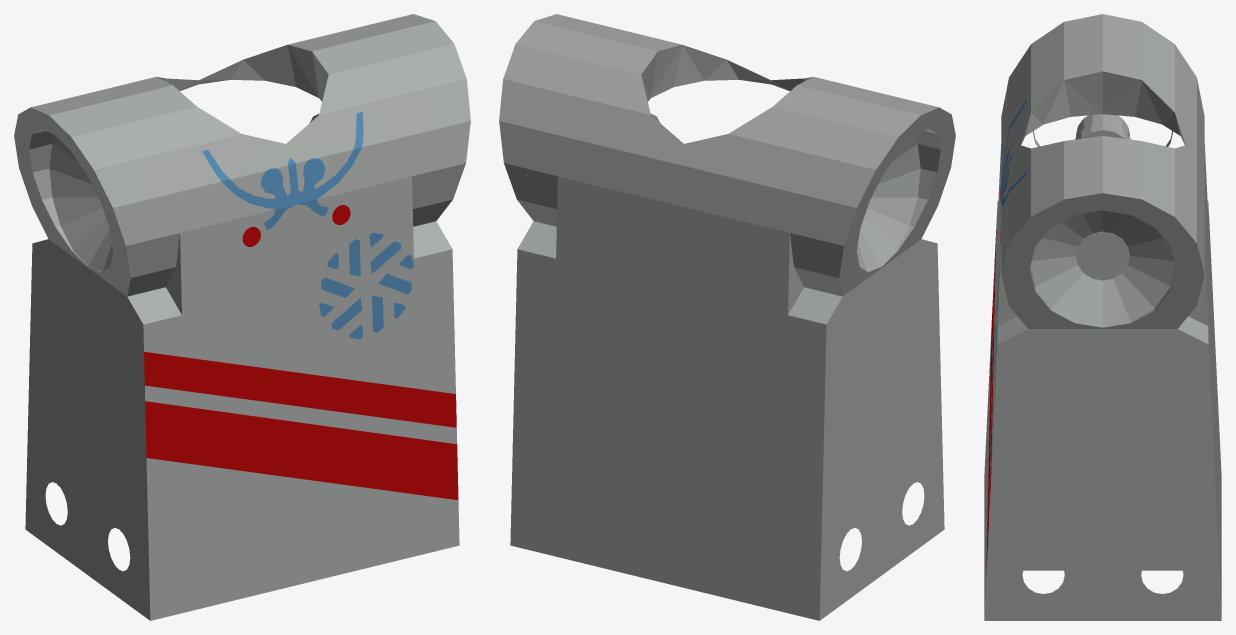
3 views of the same model, side by side, from view 1: azimuth 30°, elevation 25°; view 2: azimuth 150°, elevation 25°; view 3: azimuth 270°, elevation 25° (orthographic). The views are drawn at different scales.
Visible parts, largest first — view 1: world; view 2: world; view 3: world.
Boxes of the visible parts, x1,y1,x2,y2 form: world: (14, 14, 470, 620); world: (499, 14, 955, 620); world: (984, 14, 1221, 620).
Bounding box in the file's own units: 0.02 × 0.0232 × 0.0112.
